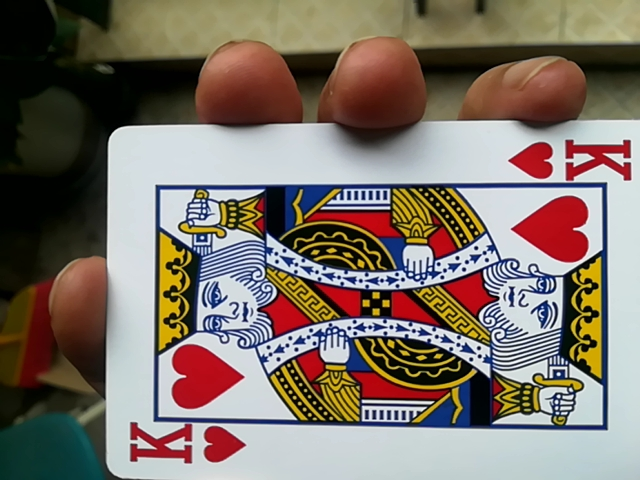hx k: (102, 125, 634, 480)
